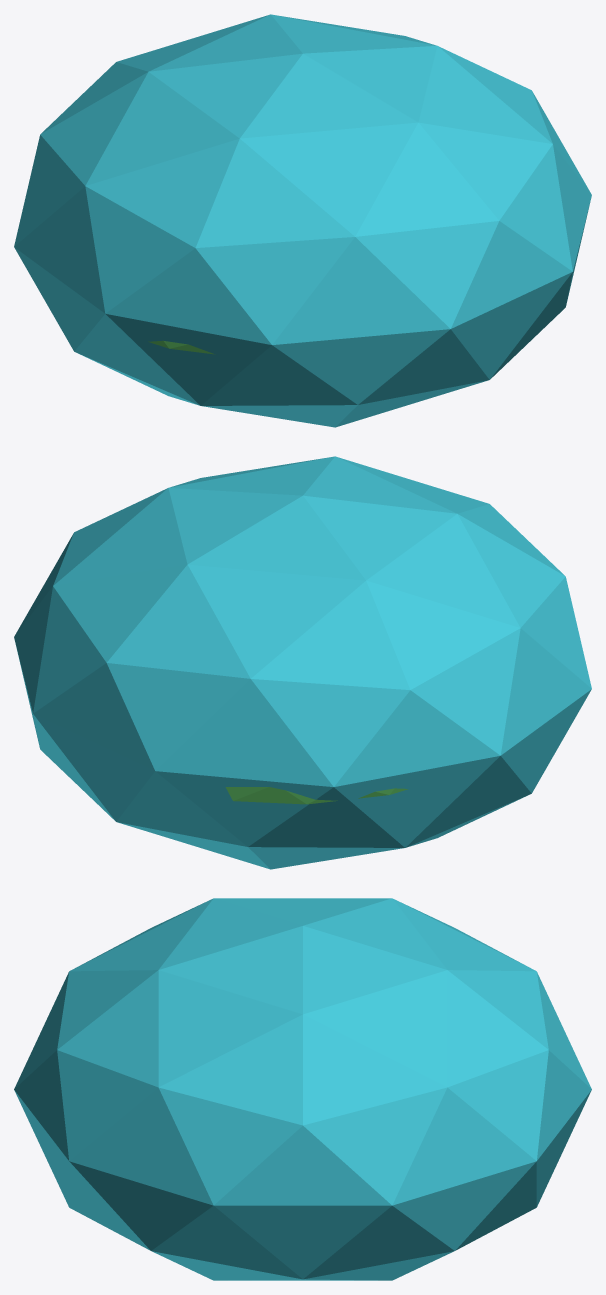
Rendered from Landscape.glb.
3 renders of one model, top to bottom at view 1: azimuth 30°, elevation 25°; view 2: azimuth 150°, elevation 25°; view 3: azimuth 270°, elevation 25°, orthographic. The views are drawn at different scales.
Parts seen in each view (by area): view 1: Sky; view 2: Sky, Hill.005; view 3: Sky.
Boxes of the visible parts, left/top/right/bottom form: Sky: left=14, top=14, right=591, bottom=427; Sky: left=14, top=456, right=591, bottom=869; Hill.005: left=225, top=787, right=408, bottom=804; Sky: left=14, top=898, right=591, bottom=1280.
Bounding box in the file's own units: 1522 × 1000 × 1600.
